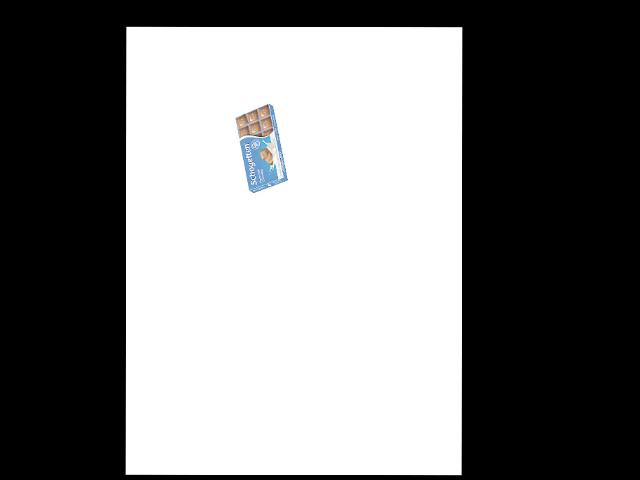chocolate: (235, 102, 280, 194)
